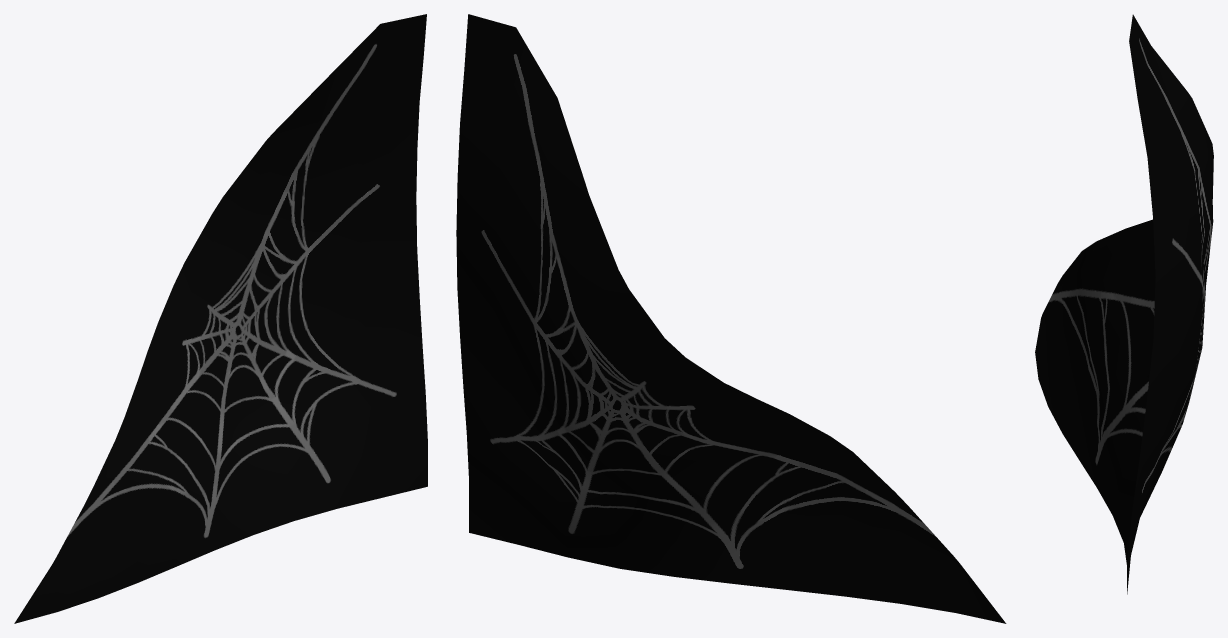
The model's file is Spider_web.fbx.
The picture shows the model from 3 angles, left to right: view 1: azimuth 30°, elevation 25°; view 2: azimuth 150°, elevation 25°; view 3: azimuth 270°, elevation 25°; orthographic projection. The views are drawn at different scales.
Visible parts, largest first — view 1: pPlane2; view 2: pPlane2; view 3: pPlane2.
Part boxes in pixels (box(x1,y1,x2,y2)): pPlane2: box(14, 14, 427, 623); pPlane2: box(456, 14, 1006, 623); pPlane2: box(1035, 14, 1213, 594).
Size of the model in its own units: 23.8 by 23.83 by 6.62.
